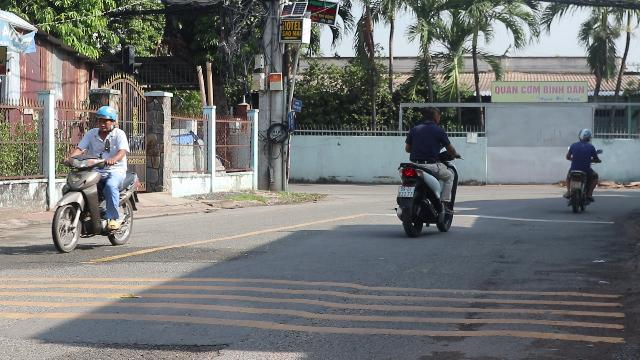helmet: (94, 105, 116, 131)
licenseplate: (398, 186, 414, 196)
motorcyclist: (50, 104, 142, 254), (392, 105, 460, 234)
nohelmet: (420, 106, 440, 124)
